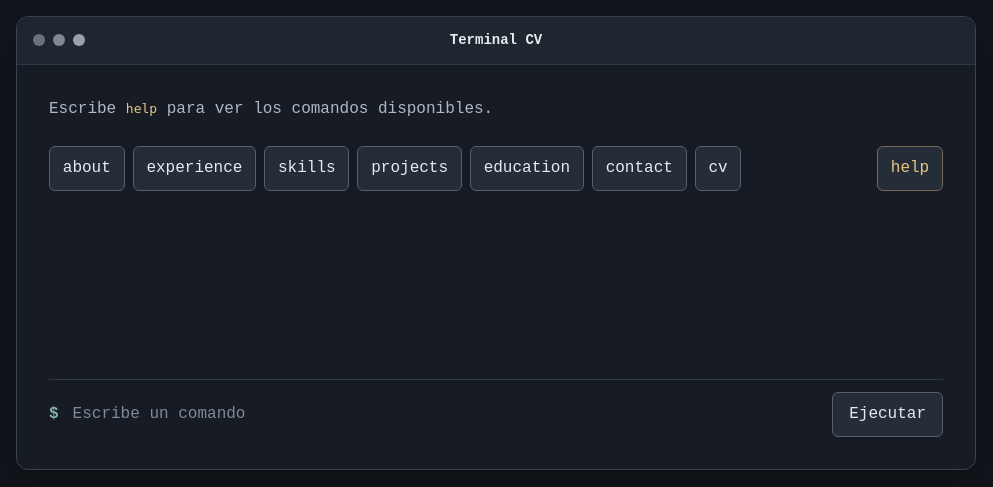
Scenario: Terminal › completes a unique command with Tab without moving focus
Type "wh" into the field labelled "Escribe un comando".
click(445, 415); type("wh")  # box [71,393,820,437]
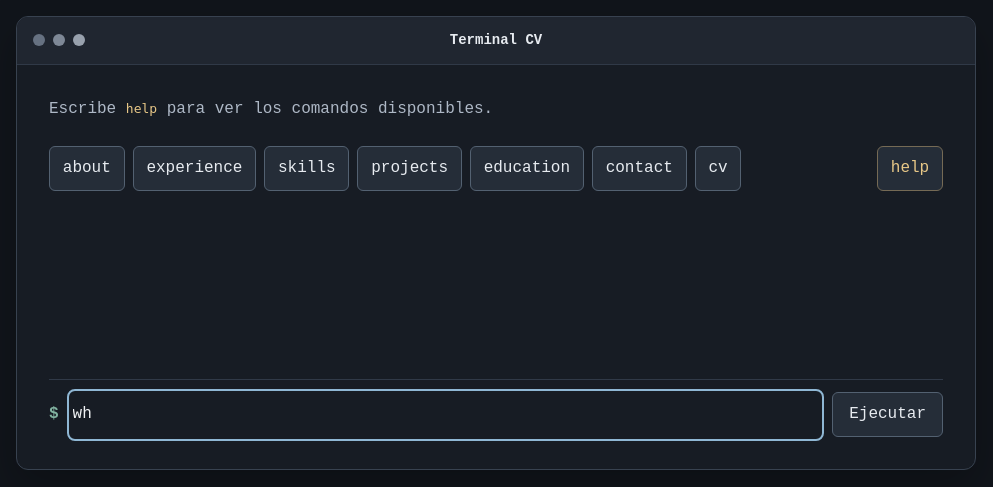
Press Tab
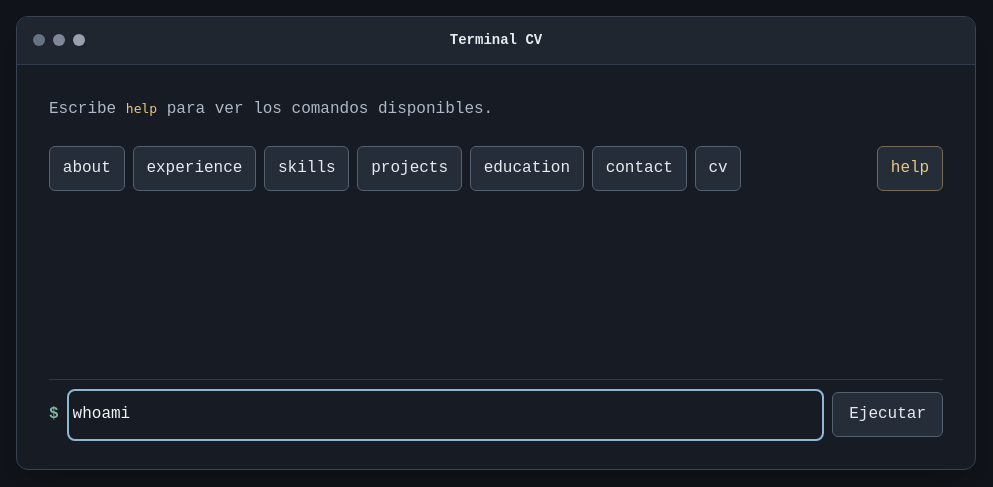
Expected: the field named "Escribe un comando" holds "whoami", [71,393,820,437]
